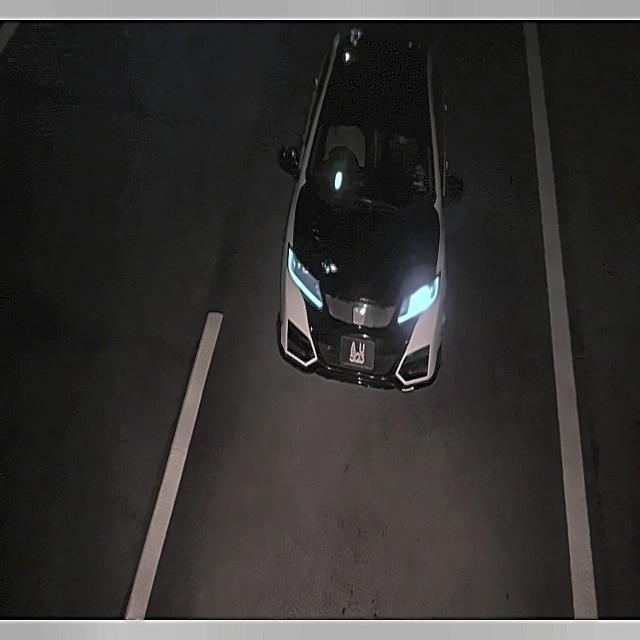car: (341, 328, 373, 376)
